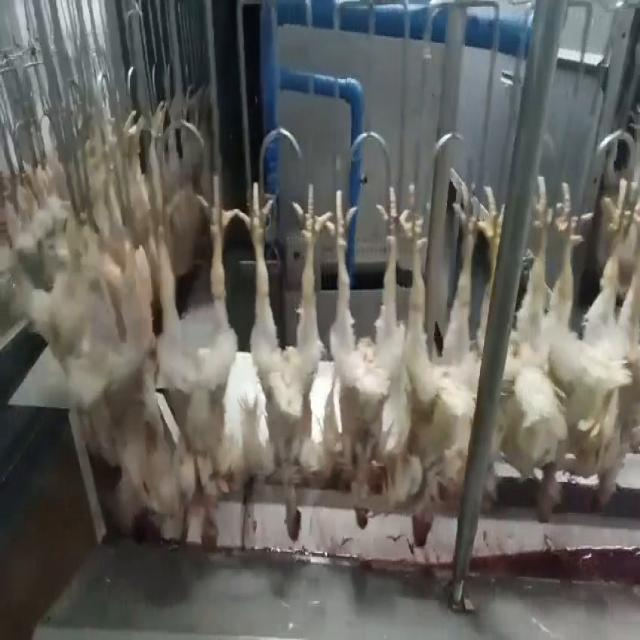chicken: (130, 174, 233, 552), (399, 185, 499, 551), (235, 174, 327, 544), (498, 183, 588, 527), (324, 173, 405, 534), (578, 172, 639, 506)
